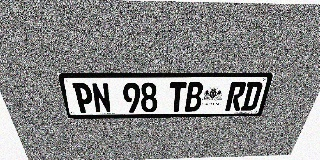8: (140, 82, 158, 112)
9: (122, 82, 141, 113)
B: (185, 82, 204, 112)
D: (240, 82, 264, 111)
N: (91, 83, 112, 113)
P: (72, 83, 95, 113)
R: (225, 82, 247, 111)
T: (168, 82, 187, 112)
